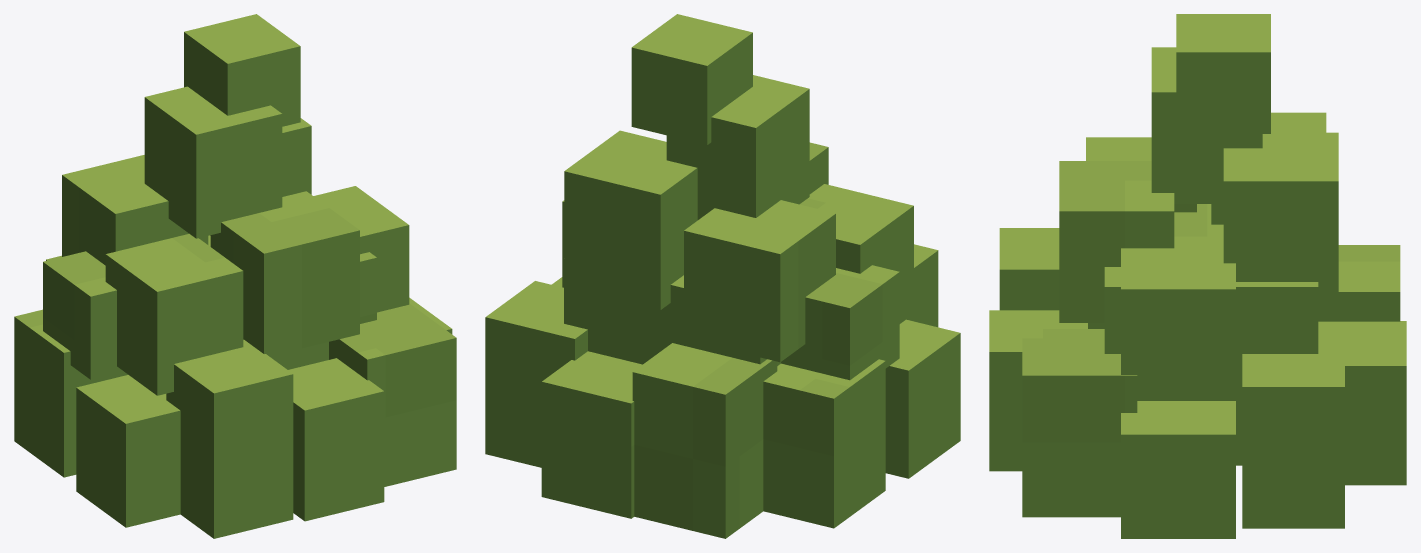
File: SM_VMF_Nature_Shrub_Tall.fbx
3 views of the same model, side by side, from view 1: azimuth 30°, elevation 25°; view 2: azimuth 150°, elevation 25°; view 3: azimuth 270°, elevation 25° (orthographic). The views are drawn at different scales.
Parts seen in each view (by area): view 1: SM_VMF_Nature_Shrub_Tall_Foliage; view 2: SM_VMF_Nature_Shrub_Tall_Foliage; view 3: SM_VMF_Nature_Shrub_Tall_Foliage.
Part boxes in pixels (box(x1,y1,x2,y2)): SM_VMF_Nature_Shrub_Tall_Foliage: box(14, 14, 456, 538); SM_VMF_Nature_Shrub_Tall_Foliage: box(485, 14, 960, 538); SM_VMF_Nature_Shrub_Tall_Foliage: box(989, 14, 1406, 538).
Size of the model in its own units: 106 by 113 by 102.
1 material, 1 textured.
